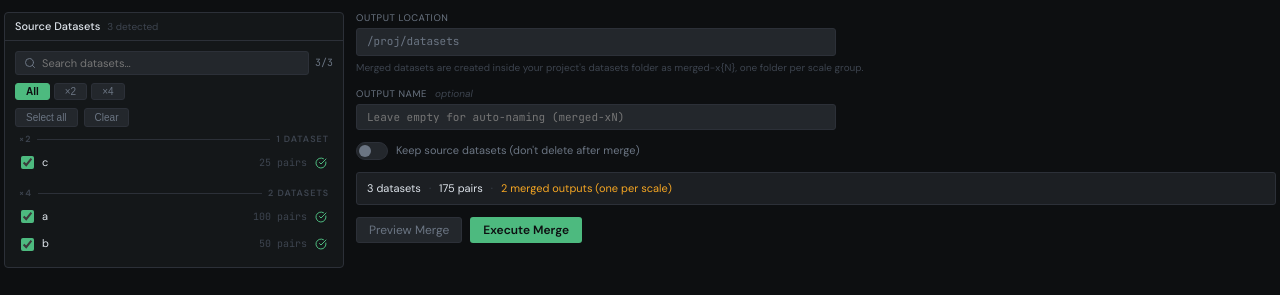
Test: ScreenMergeDatasets › warns when a custom name is combined with multiple scale groups
Expected: the text "a" is shown, [42, 209, 48, 223]
Type "mymer" into the field with placeholder "Leave empty for auto-naming (merged-xN)".
click(596, 117); type("mymer")  # box [356, 104, 836, 130]
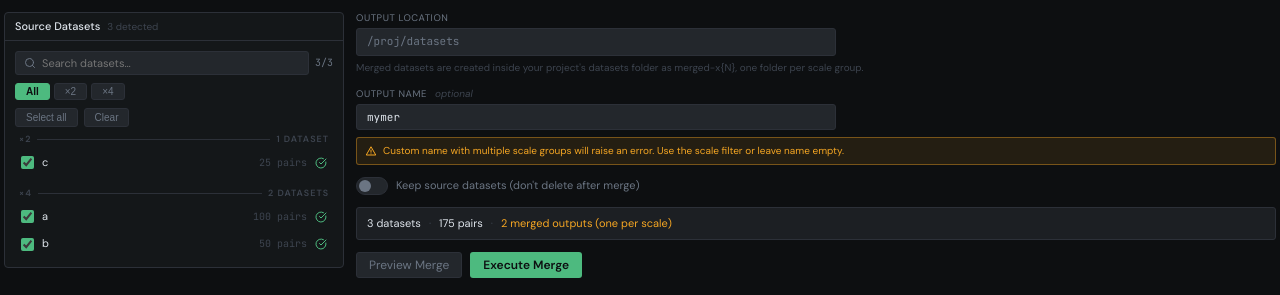
Now the text "Custom name with multiple scale groups will raise an error" is shown, box [383, 144, 844, 157]
